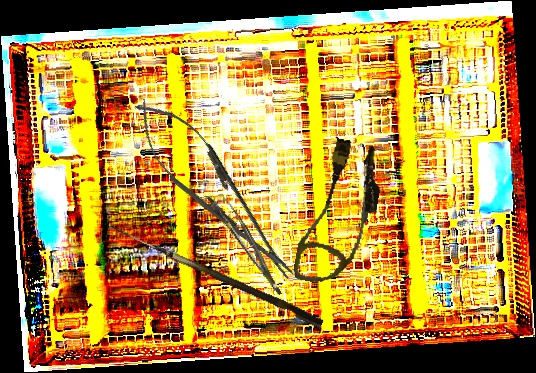Cannula: (291, 134, 389, 292)
Hook Surgical: (105, 225, 326, 329)
Needle Holder: (117, 84, 313, 298)
Tissue Forceps: (214, 193, 282, 302)
